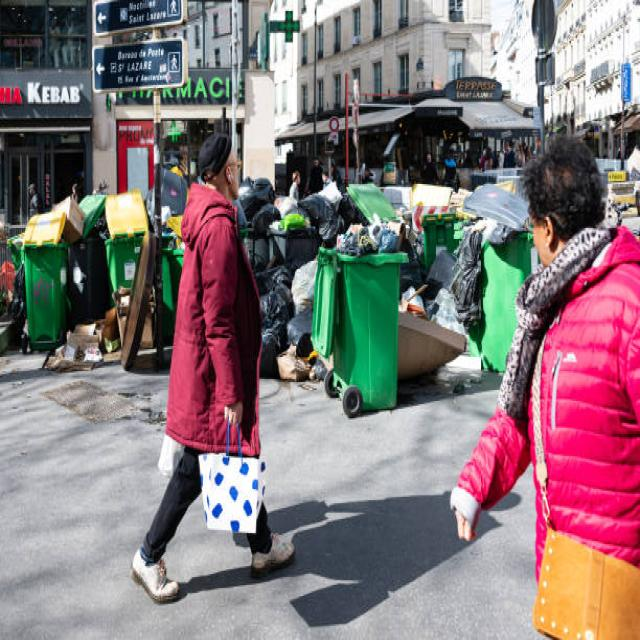cardboard: (64, 195, 88, 248)
trash: (258, 179, 503, 393), (110, 201, 182, 346), (21, 206, 68, 330)
